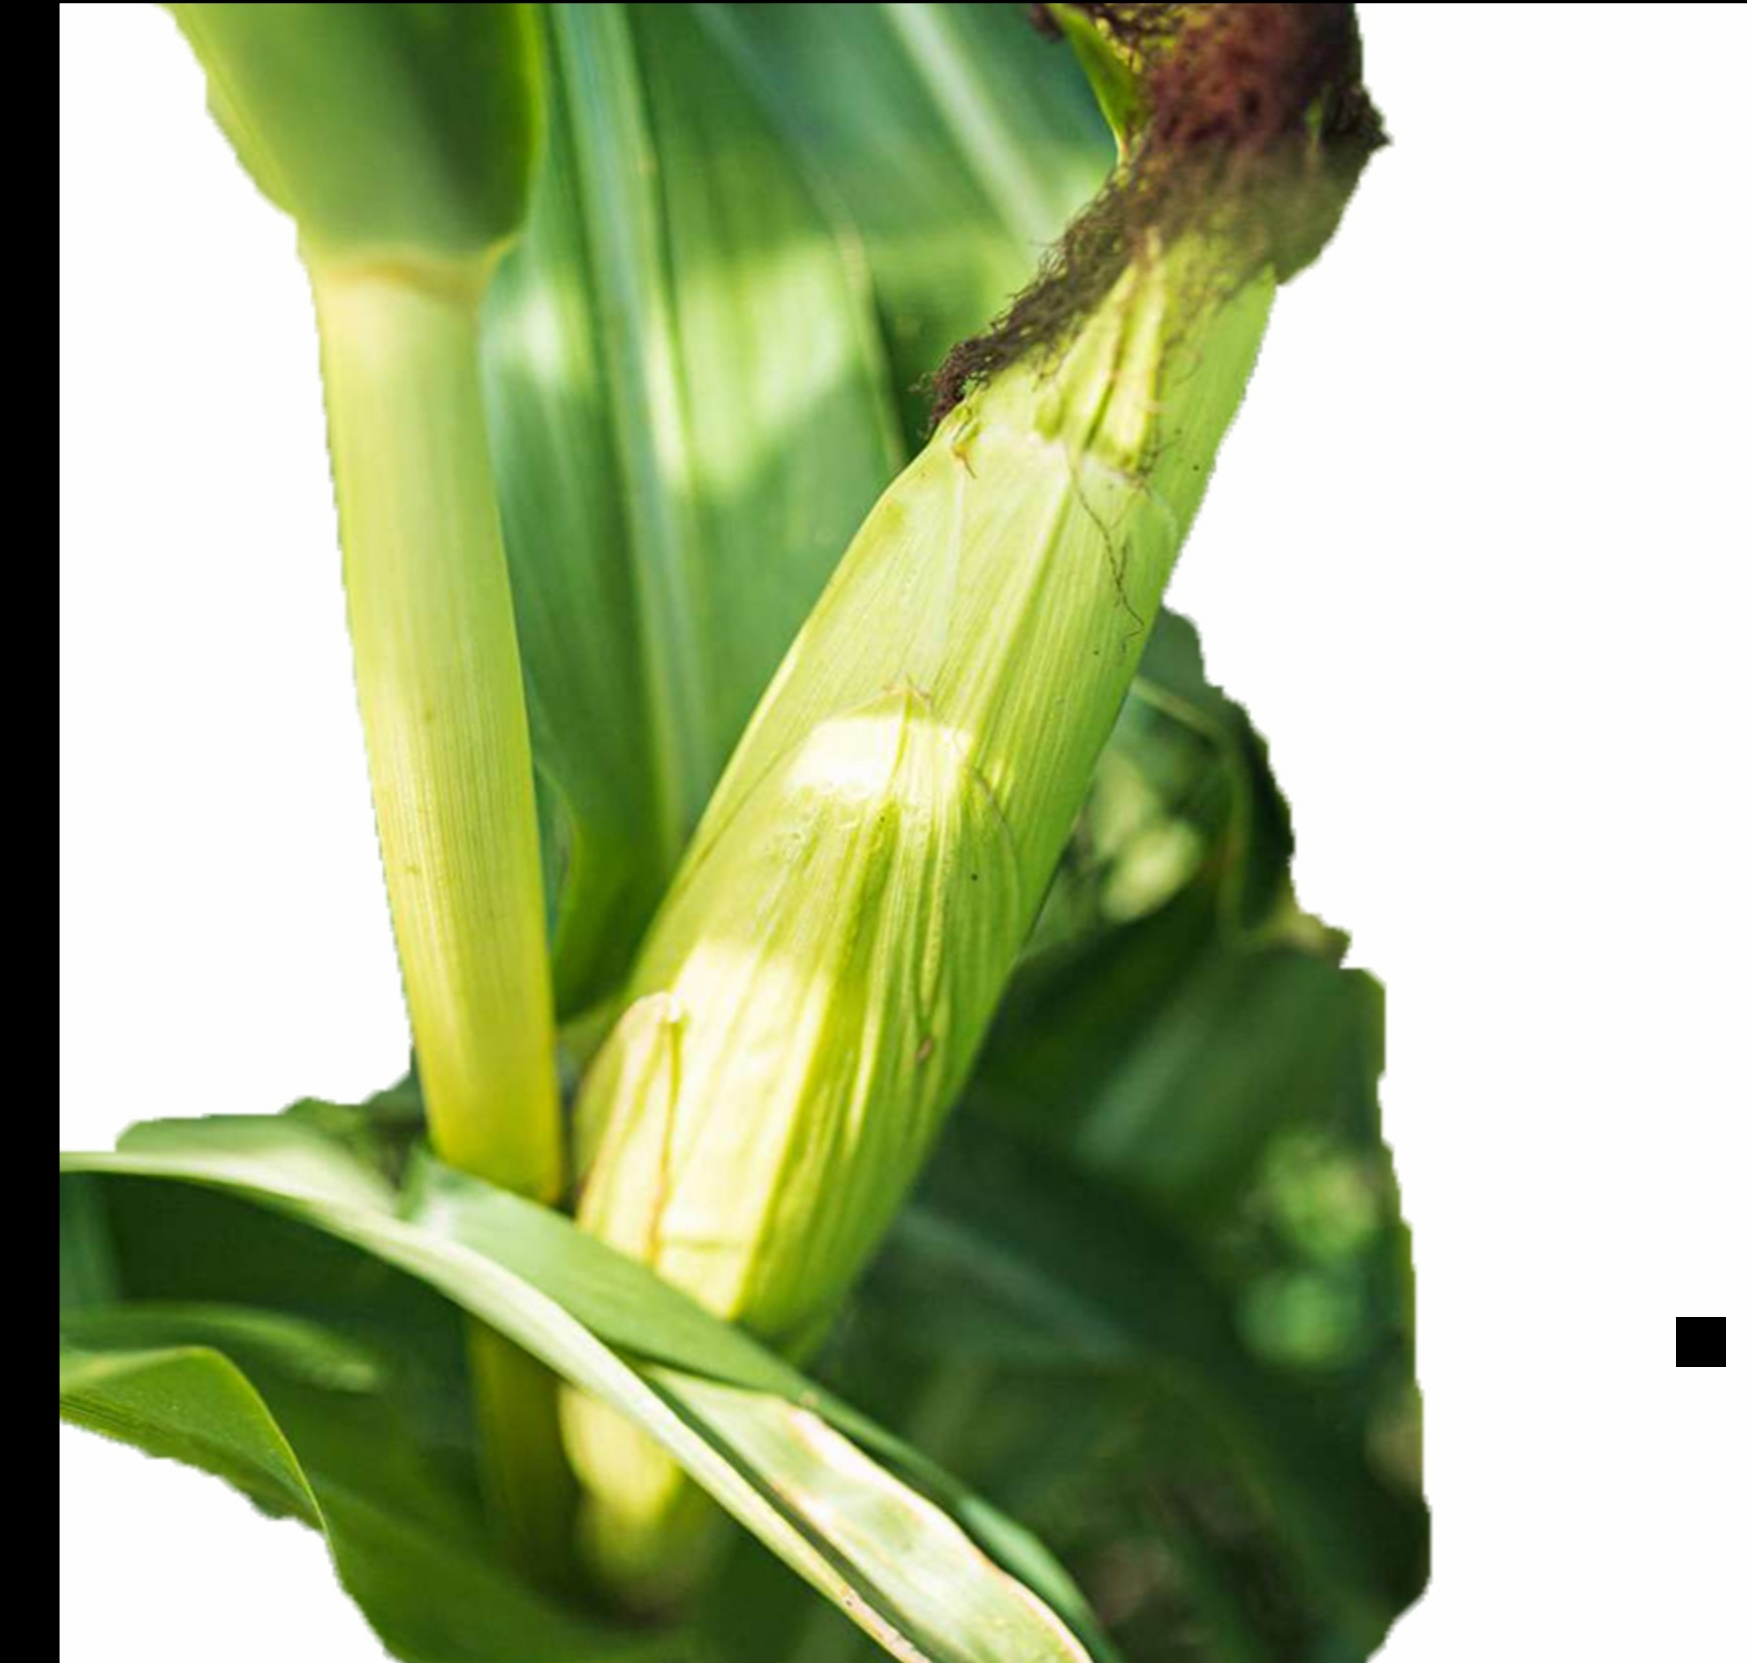corn_plant: (392, 23, 1348, 1557)
